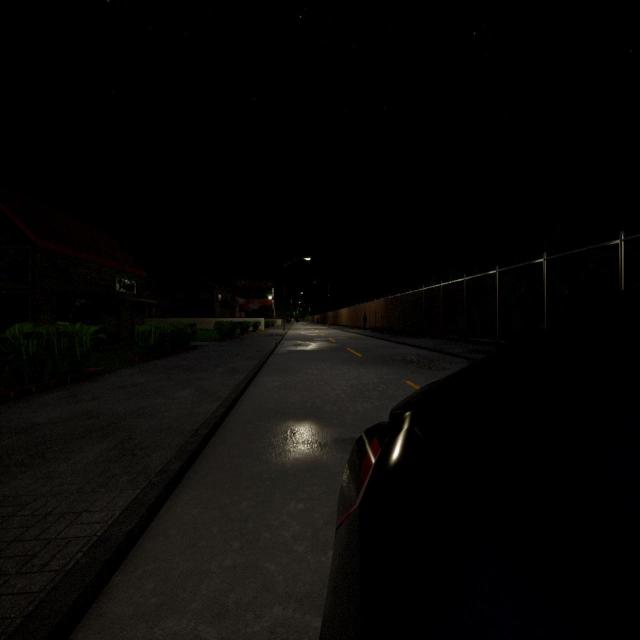Pedestrian: (361, 310, 369, 329)
Vehicle: (320, 288, 640, 638)
